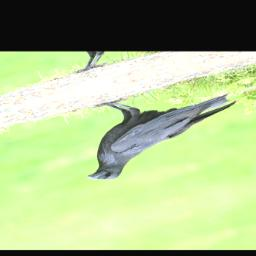Crow: (51, 71, 256, 186)
